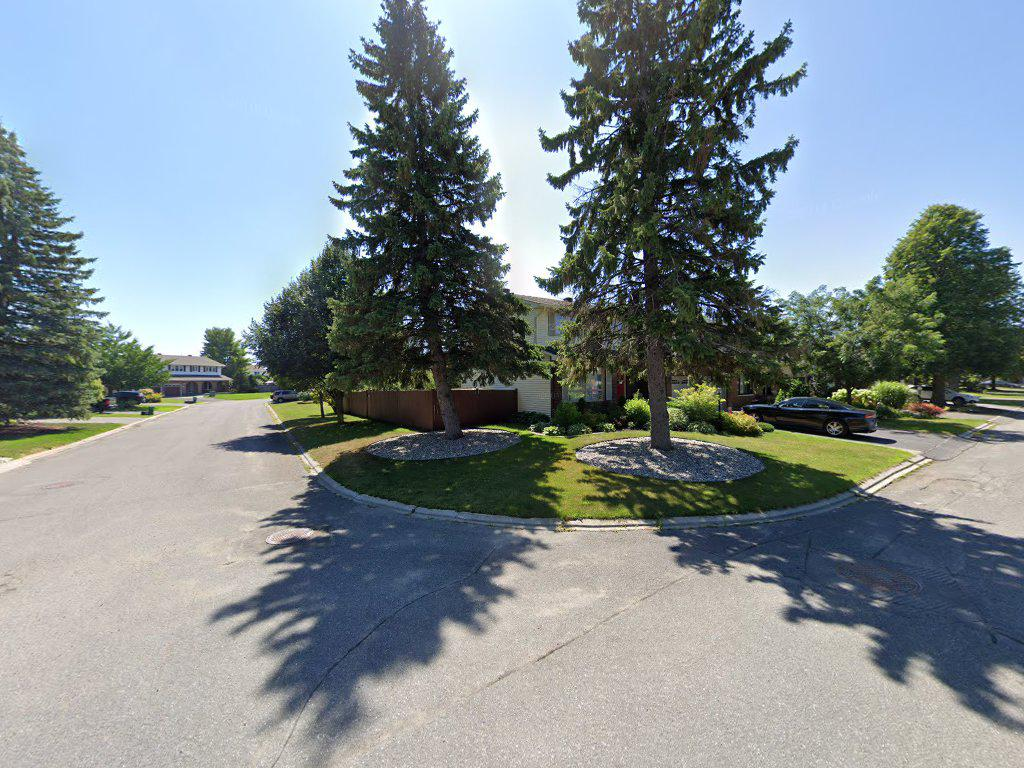trunk: (640, 326, 676, 456), (430, 363, 463, 442)
